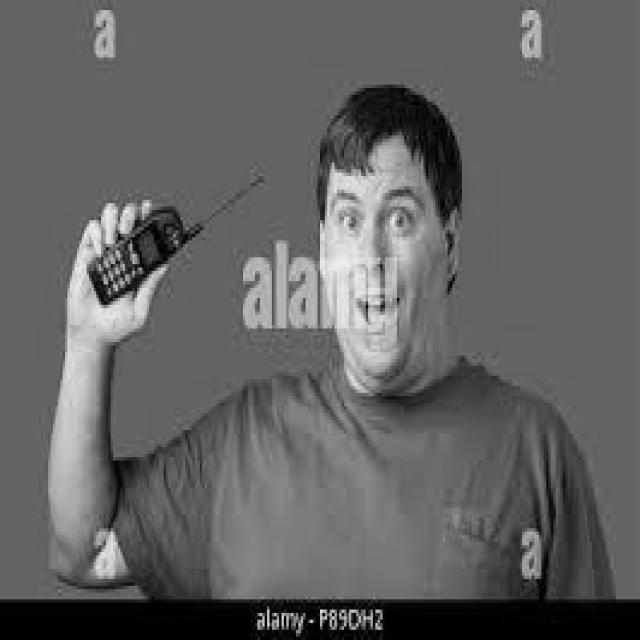No gun_phone: (91, 208, 201, 301)
